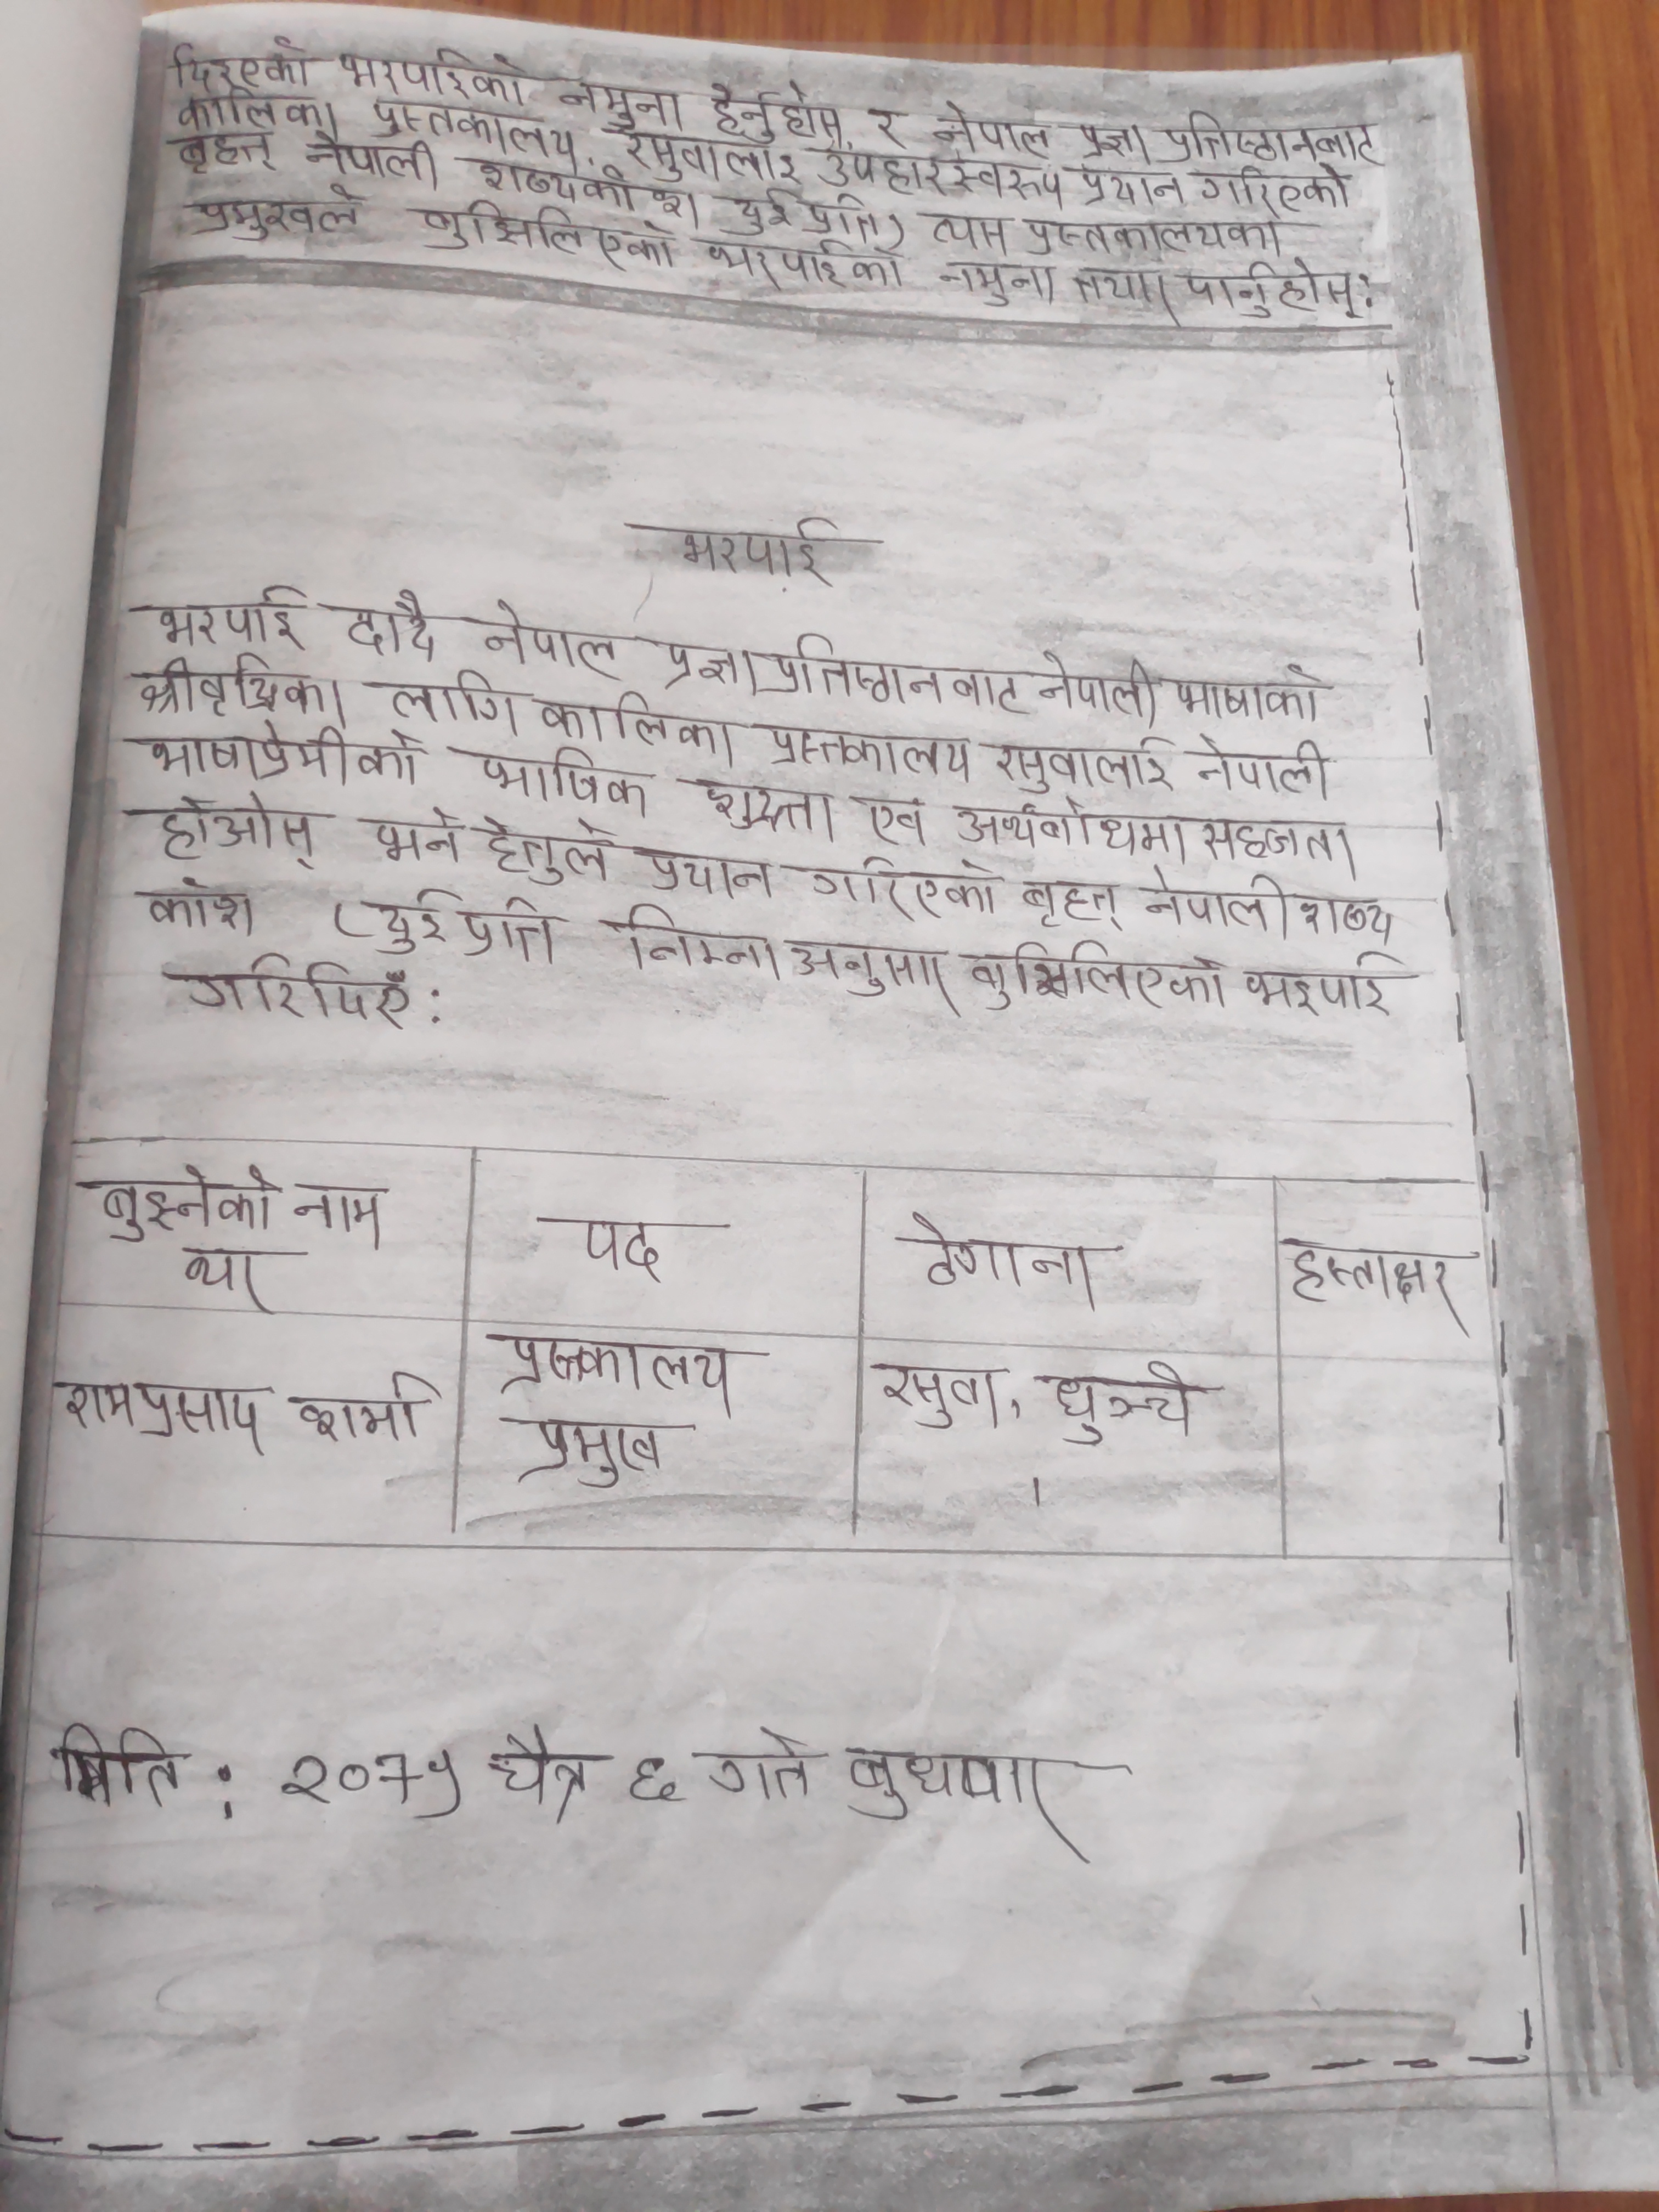text: (845, 1742, 1094, 1865), (657, 636, 1026, 714), (162, 953, 415, 1036), (969, 939, 1229, 1019), (488, 1331, 741, 1407), (904, 1212, 1108, 1305), (413, 202, 676, 273), (134, 725, 416, 787), (1288, 1238, 1473, 1329), (948, 798, 1187, 867), (84, 1162, 277, 1245), (277, 1745, 465, 1827), (1040, 1357, 1206, 1449), (617, 900, 784, 989), (134, 651, 342, 723), (538, 690, 744, 761), (1023, 211, 1293, 263), (146, 791, 317, 873), (1162, 108, 1384, 167), (667, 512, 838, 589), (805, 855, 995, 923), (481, 1726, 603, 1831), (816, 152, 1065, 202), (369, 101, 579, 160), (52, 1717, 181, 1813), (762, 721, 976, 779), (335, 44, 528, 106), (992, 730, 1175, 796), (1243, 944, 1406, 1017), (477, 744, 657, 810), (1136, 866, 1293, 941), (788, 935, 948, 1008), (289, 1369, 436, 1449), (518, 1414, 671, 1489), (701, 71, 847, 150), (483, 599, 622, 681), (1180, 265, 1364, 324), (476, 810, 612, 890), (699, 240, 904, 291), (141, 583, 301, 648), (1187, 730, 1333, 799), (138, 1379, 272, 1454), (730, 186, 910, 242), (1173, 662, 1328, 723), (692, 779, 838, 843), (617, 132, 802, 183), (1197, 810, 1354, 869), (880, 1359, 1004, 1432), (708, 1726, 817, 1808), (1035, 648, 1161, 719), (190, 190, 366, 240), (479, 157, 638, 212), (382, 671, 525, 730), (301, 131, 439, 192), (166, 37, 315, 92), (929, 94, 1056, 158), (136, 876, 261, 939), (558, 71, 687, 132), (572, 1204, 676, 1278), (340, 585, 439, 664), (1201, 169, 1358, 214), (645, 846, 775, 900), (173, 91, 342, 131), (174, 1242, 272, 1308), (465, 897, 558, 967), (369, 803, 465, 869), (936, 263, 1065, 310), (289, 1179, 387, 1240), (1290, 890, 1399, 944), (1061, 263, 1176, 314), (1068, 164, 1192, 207), (1023, 878, 1122, 932), (378, 887, 446, 953), (857, 787, 932, 846), (922, 207, 1011, 256), (174, 132, 282, 172), (1075, 118, 1150, 172), (56, 1378, 132, 1430), (624, 1756, 687, 1813), (859, 103, 910, 145)
